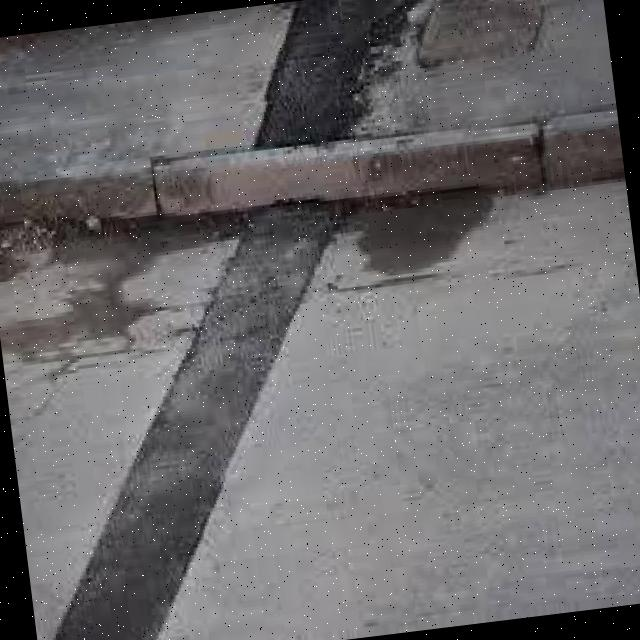curb: (1, 88, 626, 256)
